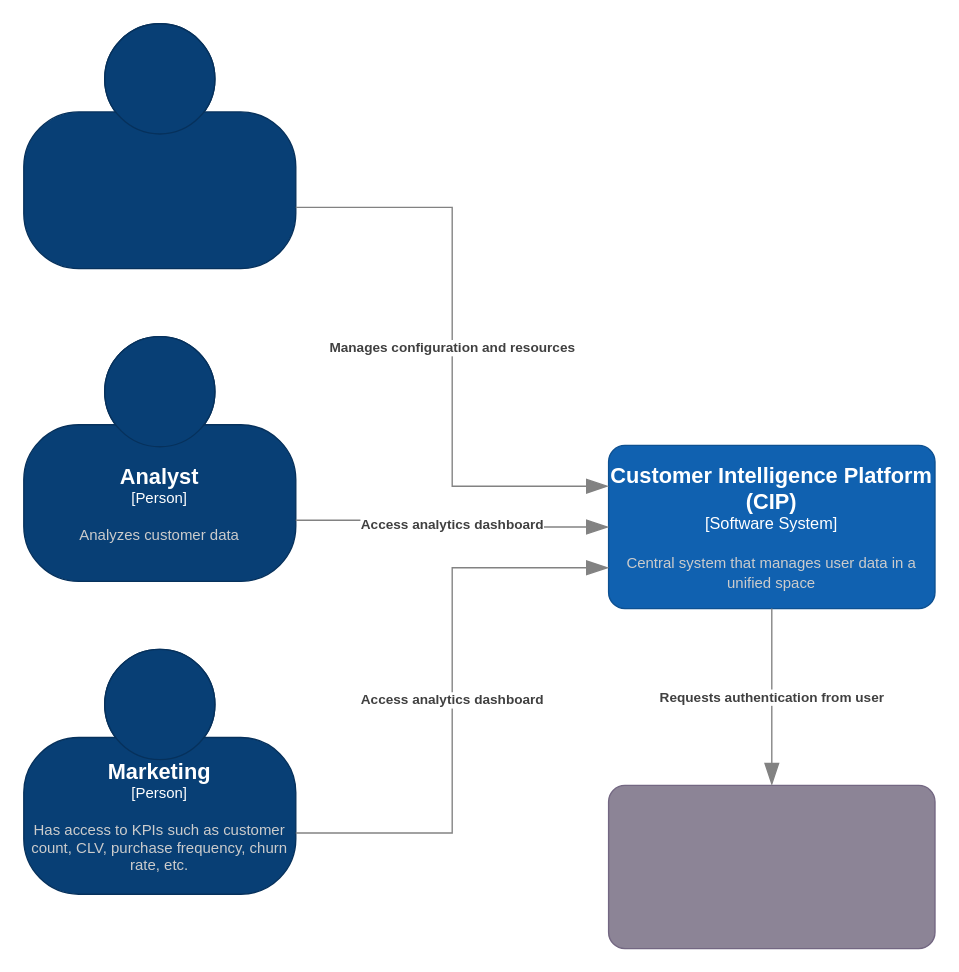
Some shapes in this 959 by 972 pixel diagram are drawn without their labels. Here are the shapes that lost their labels. From the top down, the centre of each, then its label:
At point (159, 145): "Admin [Person] Manages system configuration and operations".
At point (771, 866): "Authentication Service [Software System] Authenticate and authorize each role".
